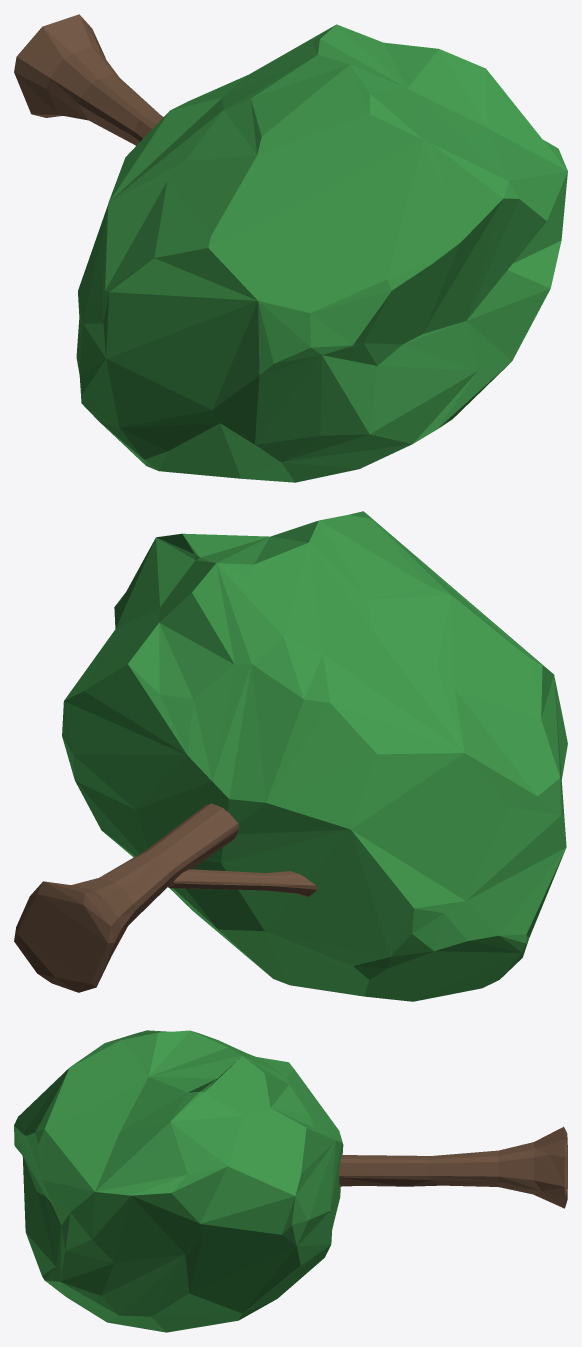
File: tree3.fbx
3 views of the same model, one above another, from view 1: azimuth 30°, elevation 25°; view 2: azimuth 150°, elevation 25°; view 3: azimuth 270°, elevation 25° (orthographic). The views are drawn at different scales.
Parts seen in each view (by area): view 1: Group63459.011, Tree36; view 2: Group63459.011, Tree36, Group63460.011; view 3: Group63459.011, Tree36.
Boxes of the visible parts, <box> form: Group63459.011: <box>76,24,567,482</box>; Tree36: <box>14,14,163,145</box>; Group63459.011: <box>62,511,567,1001</box>; Tree36: <box>14,803,239,992</box>; Group63460.011: <box>168,869,317,896</box>; Group63459.011: <box>14,1030,343,1332</box>; Tree36: <box>339,1126,567,1208</box>.
Size of the model in its own units: 2087 by 1836 by 3029.
